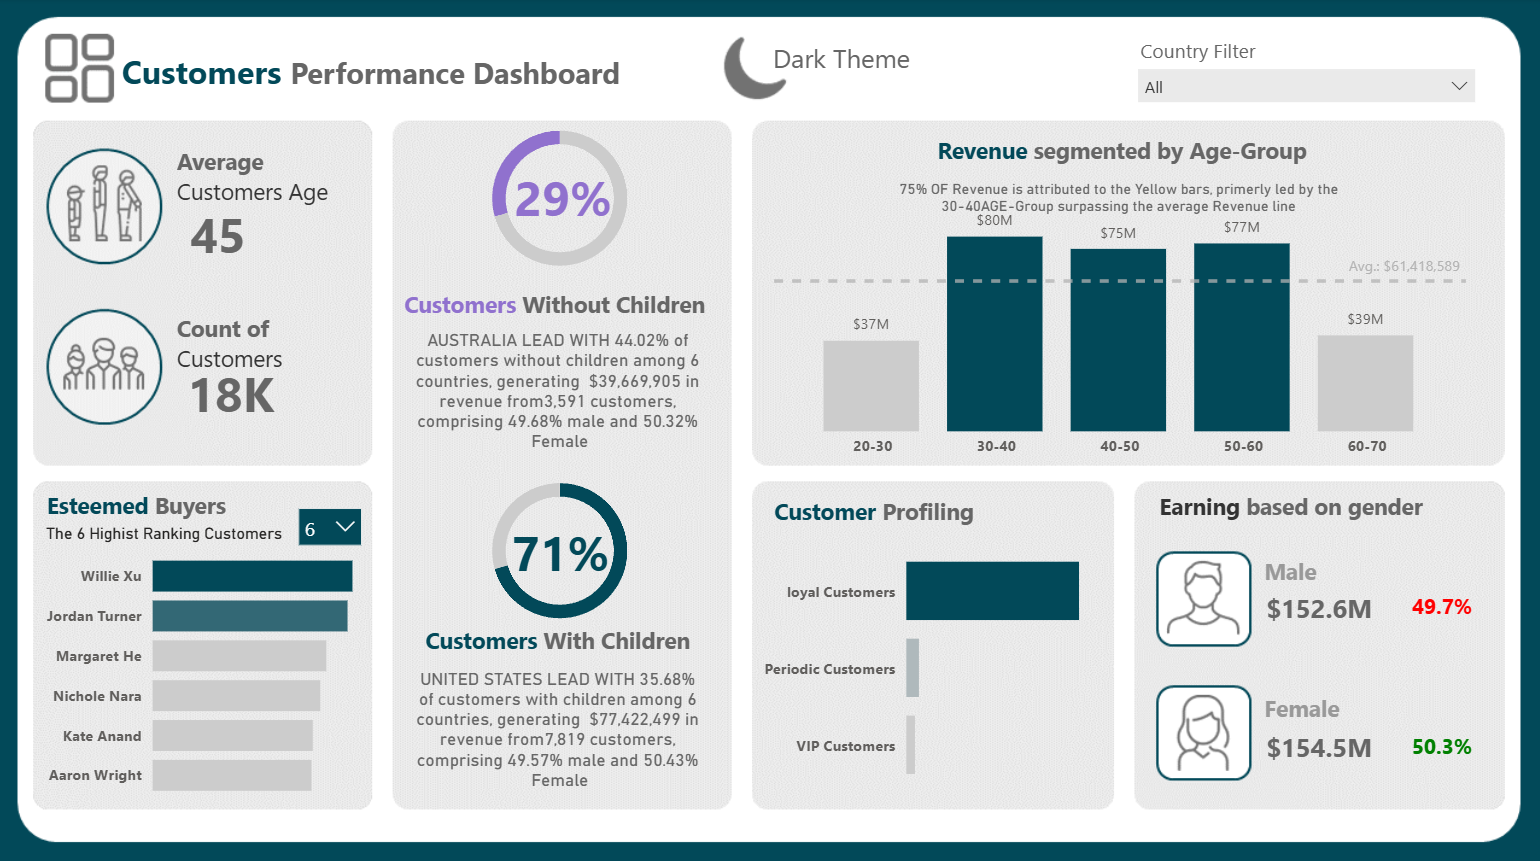

This screenshot's page, from the dashboard's own definition file:
{"tool":"powerbi","page":{"name":"Light theme","canvas":[1280,720],"ordinal":0},"visuals":[{"type":"clusteredColumnChart","fields":{"Category":["DimCustomer.Age Category"],"Y":["All Measures.Total Revenue"]},"box":[639.5,162.8,583.7,226.7],"z":0},{"type":"card","fields":{"Values":["Customers Measures.Avg Caption"]},"box":[697.7,127.9,468.6,79.1],"z":1000},{"type":"textbox","box":[746.5,109.3,373.3,37.2],"z":2000},{"type":"donutChart","fields":{"Y":["Customers Measures.%CWC","Customers Measures.%CWOC"]},"box":[391.9,91.4,150,150],"z":3000},{"type":"donutChart","fields":{"Y":["Customers Measures.%CWC","Customers Measures.%CWOC"]},"box":[391.9,383.7,150,150],"z":4000},{"type":"card","fields":{"Values":["Customers Measures.%CWOC"]},"box":[409.9,133.2,118.6,62.1],"z":5000},{"type":"card","fields":{"Values":["Customers Measures.%CWC"]},"box":[408.8,427.9,118.6,62.1],"z":6000},{"type":"textbox","box":[332.6,236.7,268.6,37.2],"z":7000},{"type":"textbox","box":[350,515.1,251.2,37.2],"z":8000},{"type":"card","fields":{"Values":["Customers Measures.Caption of CWOC"]},"box":[332.6,541.9,268.6,126.7],"z":9000},{"type":"card","fields":{"Values":["Customers Measures.Caption of CWC"]},"box":[332.6,258.8,268.6,131.4],"z":10000},{"type":"barChart","fields":{"Category":["DimCustomer.Customers Type"],"Y":["All Measures.Total Revenue"]},"box":[630.2,429.1,286,247.7],"z":11000},{"type":"barChart","fields":{"Category":["DimCustomer.Full Name"],"Y":["Customers Measures.Dynamic Customers"]},"box":[34.9,440.7,269.8,236],"z":12000},{"type":"slicer","fields":{"Values":["Dynamic customers.Dynamic customers"]},"box":[239.5,412.8,73.3,46.5],"z":13000},{"type":"card","fields":{"Values":["Customers Measures.Male Revenue"]},"box":[1036.3,488.4,119.8,39.5],"z":14000},{"type":"card","fields":{"Values":["Customers Measures.Female Revenue"]},"box":[1036.3,603.5,119.8,39.5],"z":15000},{"type":"card","fields":{"Values":["Customers Measures.Pct Male Revenue"]},"box":[1167.5,491.7,60.5,30.2],"z":16000},{"type":"card","fields":{"Values":["Customers Measures.Pct Female Revenue"]},"box":[1167.5,606.8,60.5,30.2],"z":17000},{"type":"card","fields":{"Values":["Customers Measures.Avg Customers Age"]},"box":[150,167.4,66.3,54.7],"z":18000},{"type":"card","fields":{"Values":["Customers Measures.#Customers"]},"box":[141.1,295.8,106.1,64.4],"z":19000},{"type":"textbox","box":[144.2,118.6,145.3,65.1],"z":20000},{"type":"textbox","box":[144.2,255.8,114,65.1],"z":21000},{"type":"textbox","box":[1045.4,458.1,82.6,41.9],"z":22000},{"type":"textbox","box":[1045.4,570.9,97.7,41.9],"z":23000},{"type":"textbox","box":[35.9,403.5,177.9,37.2],"z":24000},{"type":"textbox","box":[639.5,408.1,195.3,37.2],"z":25000},{"type":"textbox","box":[958.1,404.7,265.1,37.2],"z":26000},{"type":"card","fields":{"Values":["Customers Measures.title top customers"]},"box":[31.2,431.4,215.1,27.9],"z":27000},{"type":"textbox","box":[638,30.5,178.4,42.9],"z":28000},{"type":"textbox","box":[98.8,37.2,466.3,46.5],"z":29000},{"type":"slicer","fields":{"Values":["DimGeography.Country"]},"box":[936.1,48.6,299.2,48.6],"z":30000},{"type":"textbox","box":[942.8,27.1,177.3,39.5],"z":31000},{"type":"actionButton","box":[601.8,33.9,171.6,49.7],"z":31001}]}

Visuals, with their boxes in screenshot pixels (x1, y1, x2, y2), scaled from the page's 1280x720 canvas onto the 1540x861 screenshot:
clusteredColumnChart - DimCustomer.Age Category x All Measures.Total Revenue: crop(769, 195, 1472, 466)
card - Customers Measures.Avg Caption: crop(839, 153, 1403, 248)
textbox: crop(898, 131, 1347, 175)
donutChart - Customers Measures.%CWC x Customers Measures.%CWOC: crop(472, 109, 652, 289)
donutChart - Customers Measures.%CWC x Customers Measures.%CWOC: crop(472, 459, 652, 638)
card - Customers Measures.%CWOC: crop(493, 159, 636, 234)
card - Customers Measures.%CWC: crop(492, 512, 635, 586)
textbox: crop(400, 283, 723, 328)
textbox: crop(421, 616, 723, 660)
card - Customers Measures.Caption of CWOC: crop(400, 648, 723, 800)
card - Customers Measures.Caption of CWC: crop(400, 309, 723, 467)
barChart - DimCustomer.Customers Type x All Measures.Total Revenue: crop(758, 513, 1102, 809)
barChart - DimCustomer.Full Name x Customers Measures.Dynamic Customers: crop(42, 527, 367, 809)
slicer - Dynamic customers.Dynamic customers: crop(288, 494, 376, 549)
card - Customers Measures.Male Revenue: crop(1247, 584, 1391, 631)
card - Customers Measures.Female Revenue: crop(1247, 722, 1391, 769)
card - Customers Measures.Pct Male Revenue: crop(1405, 588, 1477, 624)
card - Customers Measures.Pct Female Revenue: crop(1405, 726, 1477, 762)
card - Customers Measures.Avg Customers Age: crop(180, 200, 260, 266)
card - Customers Measures.#Customers: crop(170, 354, 297, 431)
textbox: crop(173, 142, 348, 220)
textbox: crop(173, 306, 311, 384)
textbox: crop(1258, 548, 1357, 598)
textbox: crop(1258, 683, 1375, 733)
textbox: crop(43, 483, 257, 527)
textbox: crop(769, 488, 1004, 533)
textbox: crop(1153, 484, 1472, 528)
card - Customers Measures.title top customers: crop(38, 516, 296, 549)
textbox: crop(768, 36, 982, 88)
textbox: crop(119, 44, 680, 100)
slicer - DimGeography.Country: crop(1126, 58, 1486, 116)
textbox: crop(1134, 32, 1348, 80)
actionButton: crop(724, 41, 930, 100)
